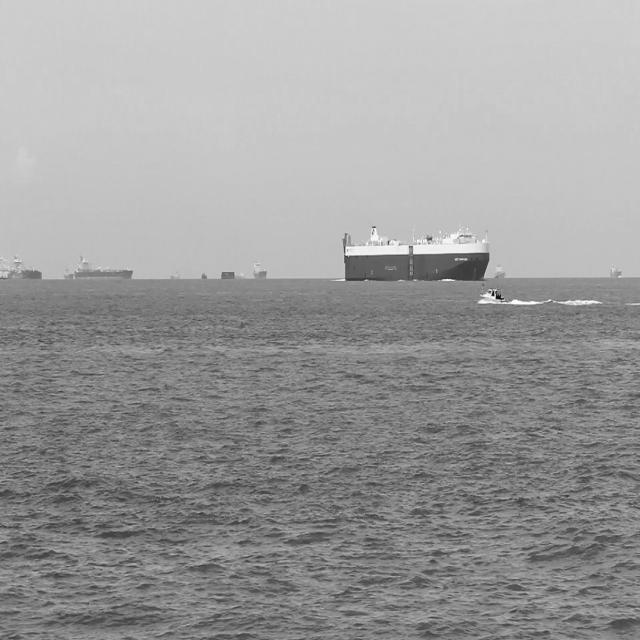ship: (340, 215, 492, 286), (73, 252, 136, 281), (0, 251, 46, 282), (478, 279, 512, 309), (250, 255, 269, 281), (606, 257, 623, 282), (492, 258, 508, 281), (60, 262, 74, 280)
